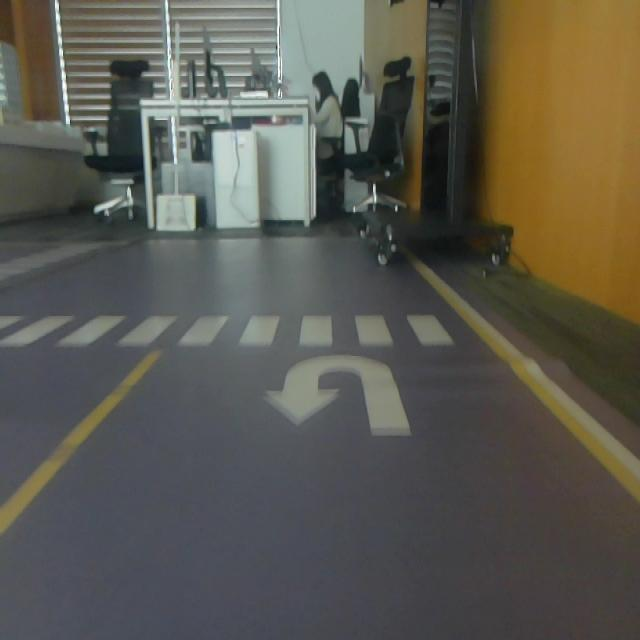left_lane: (0, 355, 161, 533)
right_lane: (406, 254, 640, 504)
